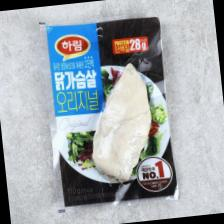chicken: (82, 60, 158, 184)
